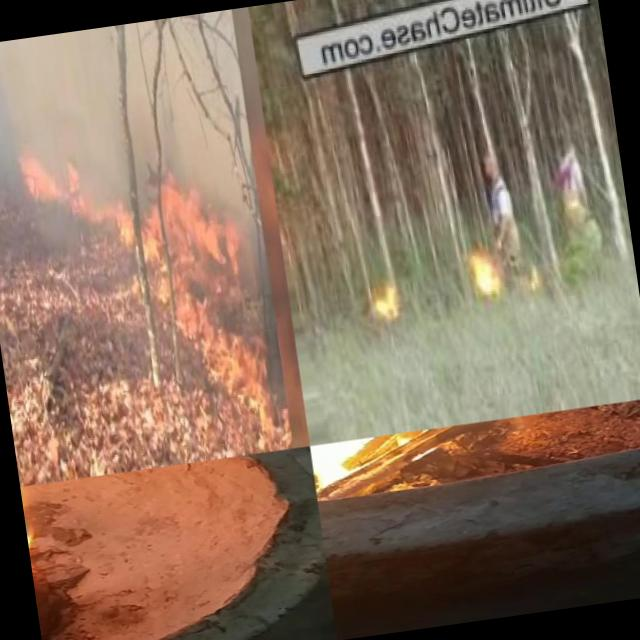fire: (138, 168, 242, 281), (18, 138, 86, 224), (463, 237, 508, 303), (371, 262, 408, 332)
